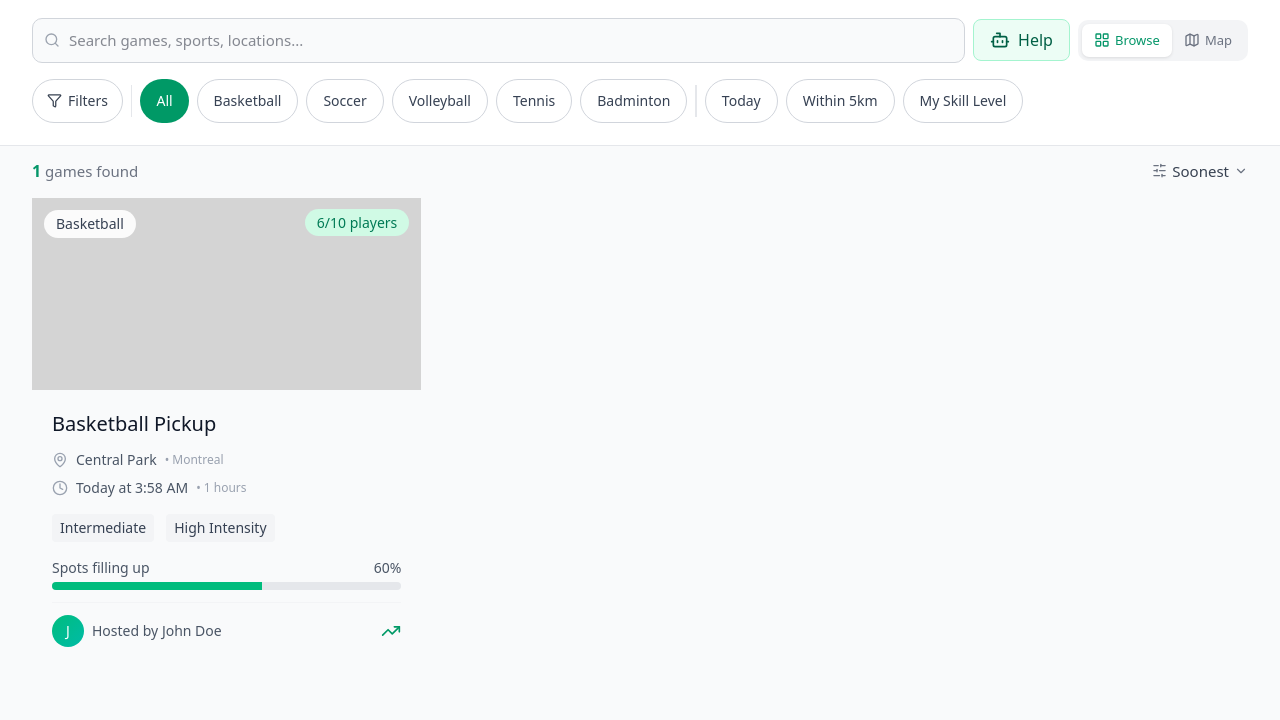
GameDiscovery Component › Filter Application › Reset button clears all filters, resets todayOnly, and closes the modal
This screenshot has width=1280, height=720.
Click the button "Filters": click(77, 100) left=32, top=78, right=123, bottom=122
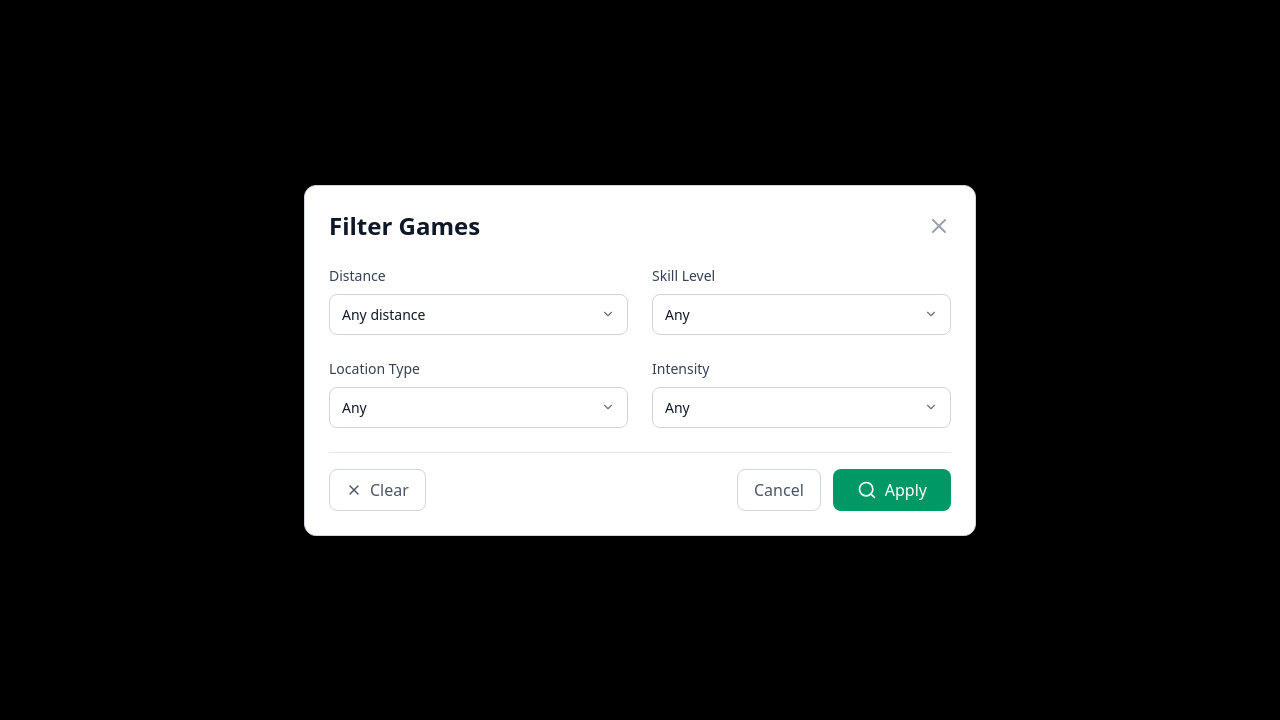
Expected: the text "Distance" is shown, left=329, top=266, right=386, bottom=284
Click the 1st button "Any": click(677, 314) left=652, top=294, right=951, bottom=334
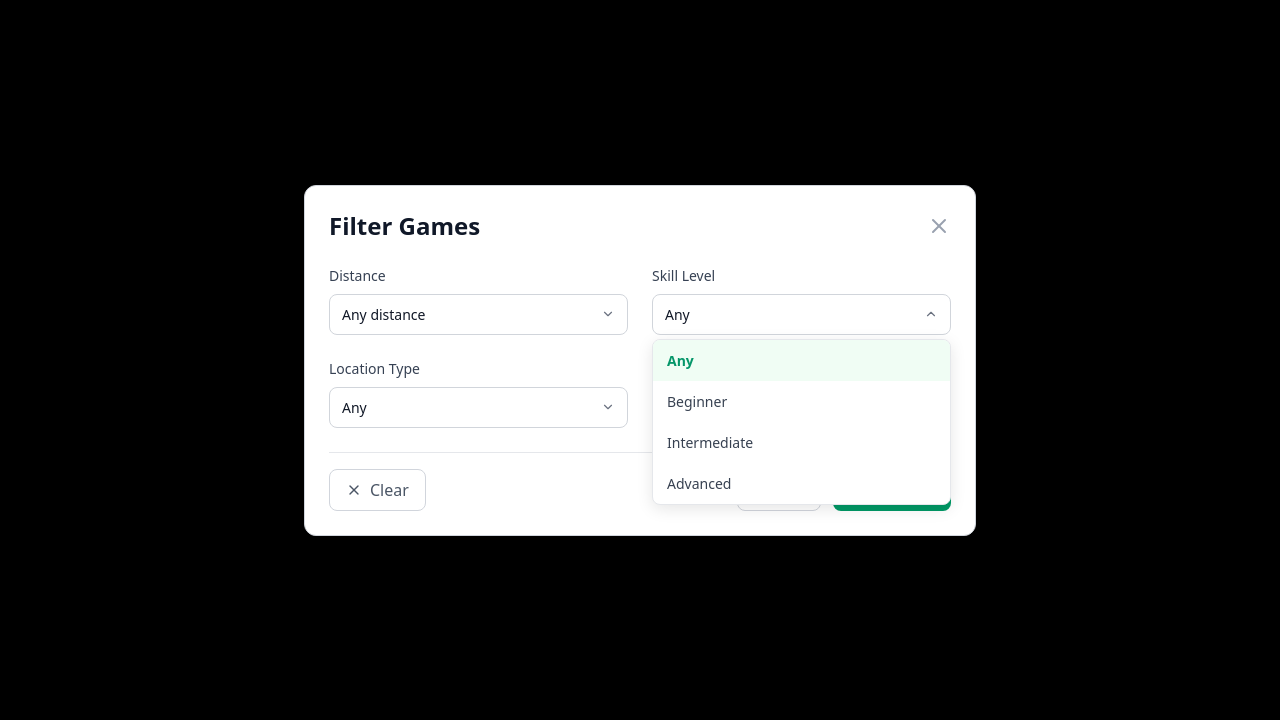
Click the button "Beginner": click(697, 401) left=653, top=380, right=950, bottom=422
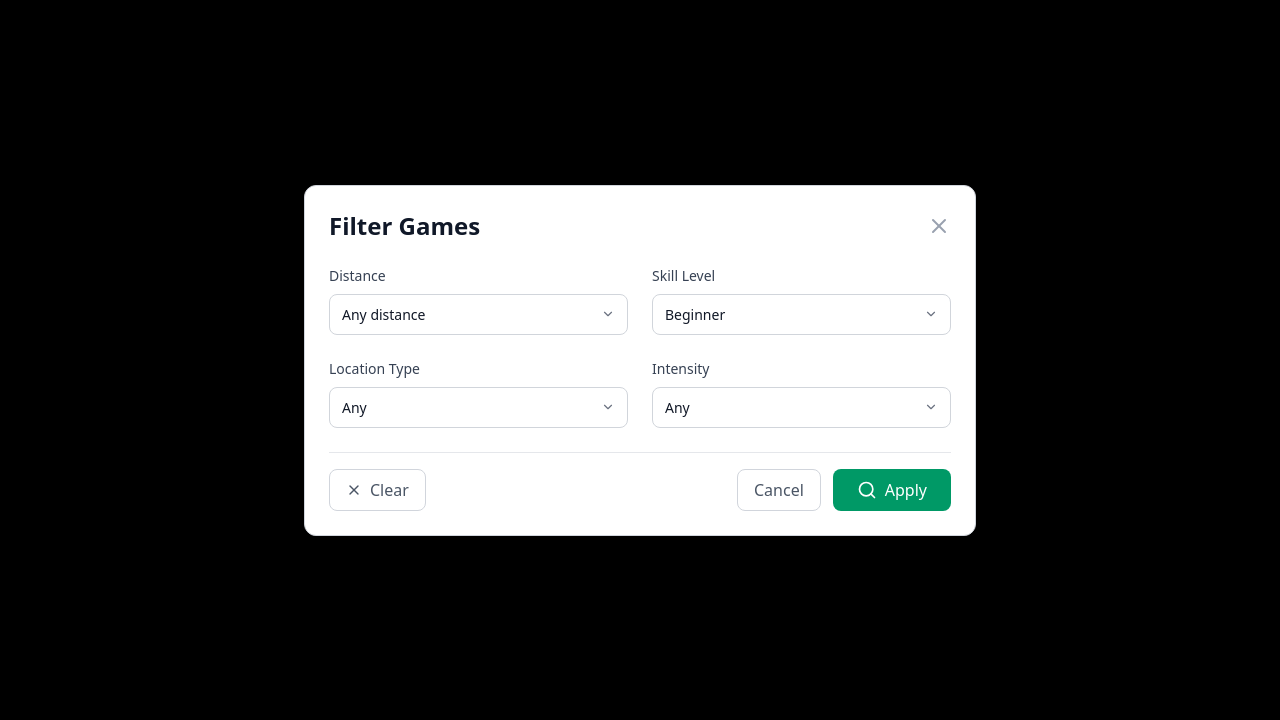
Expected: the button "Beginner" is shown, left=652, top=294, right=951, bottom=334
Click the button "Clear": click(377, 490) left=329, top=468, right=426, bottom=510
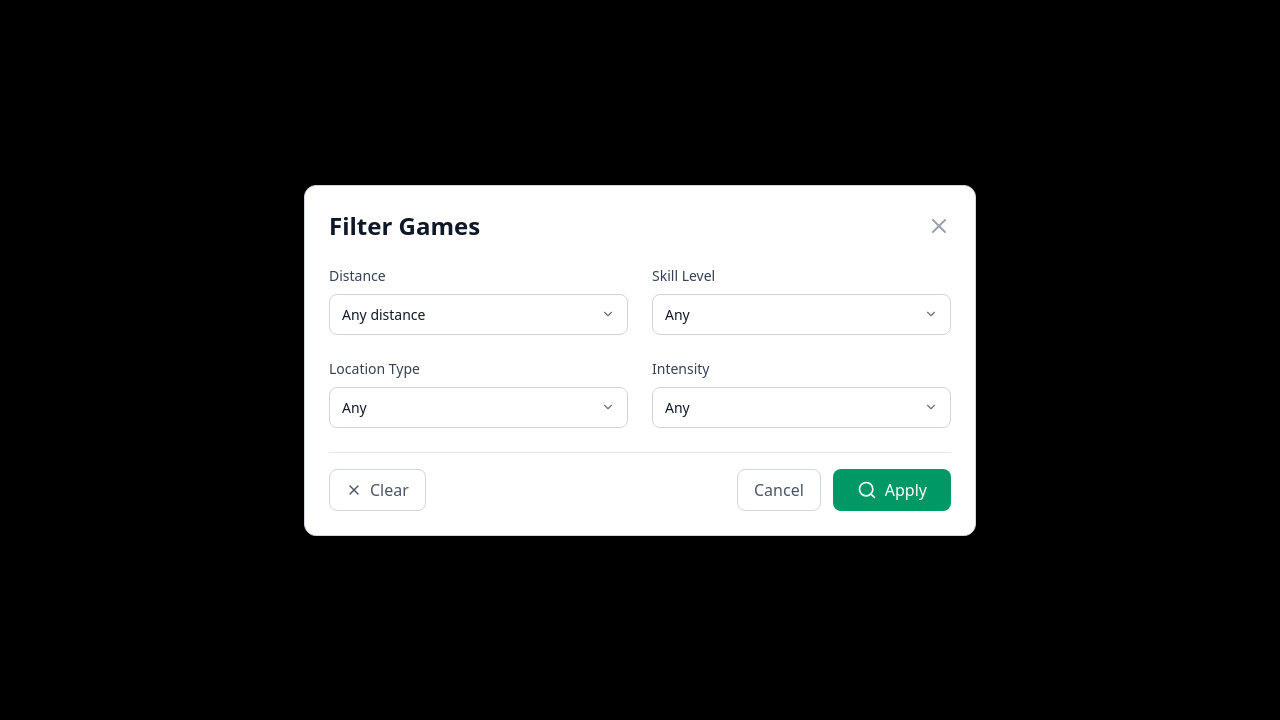
Expected: the 1st button "Any" is shown, left=652, top=294, right=951, bottom=334
